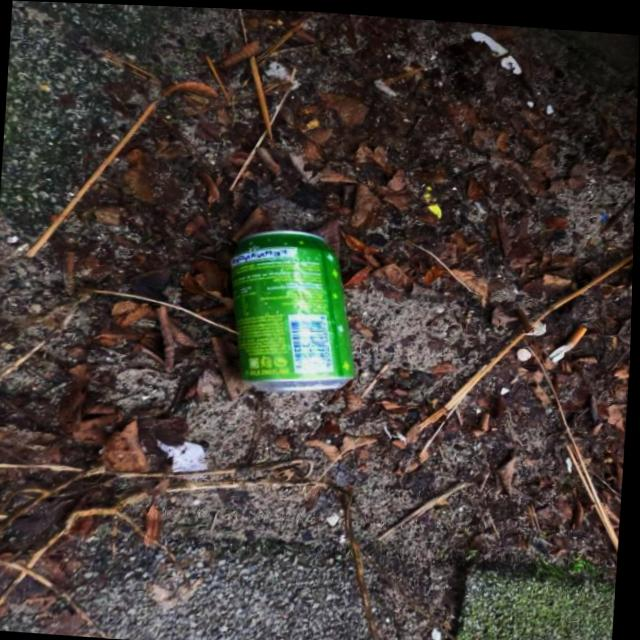Can-Metal: (218, 222, 365, 397)
